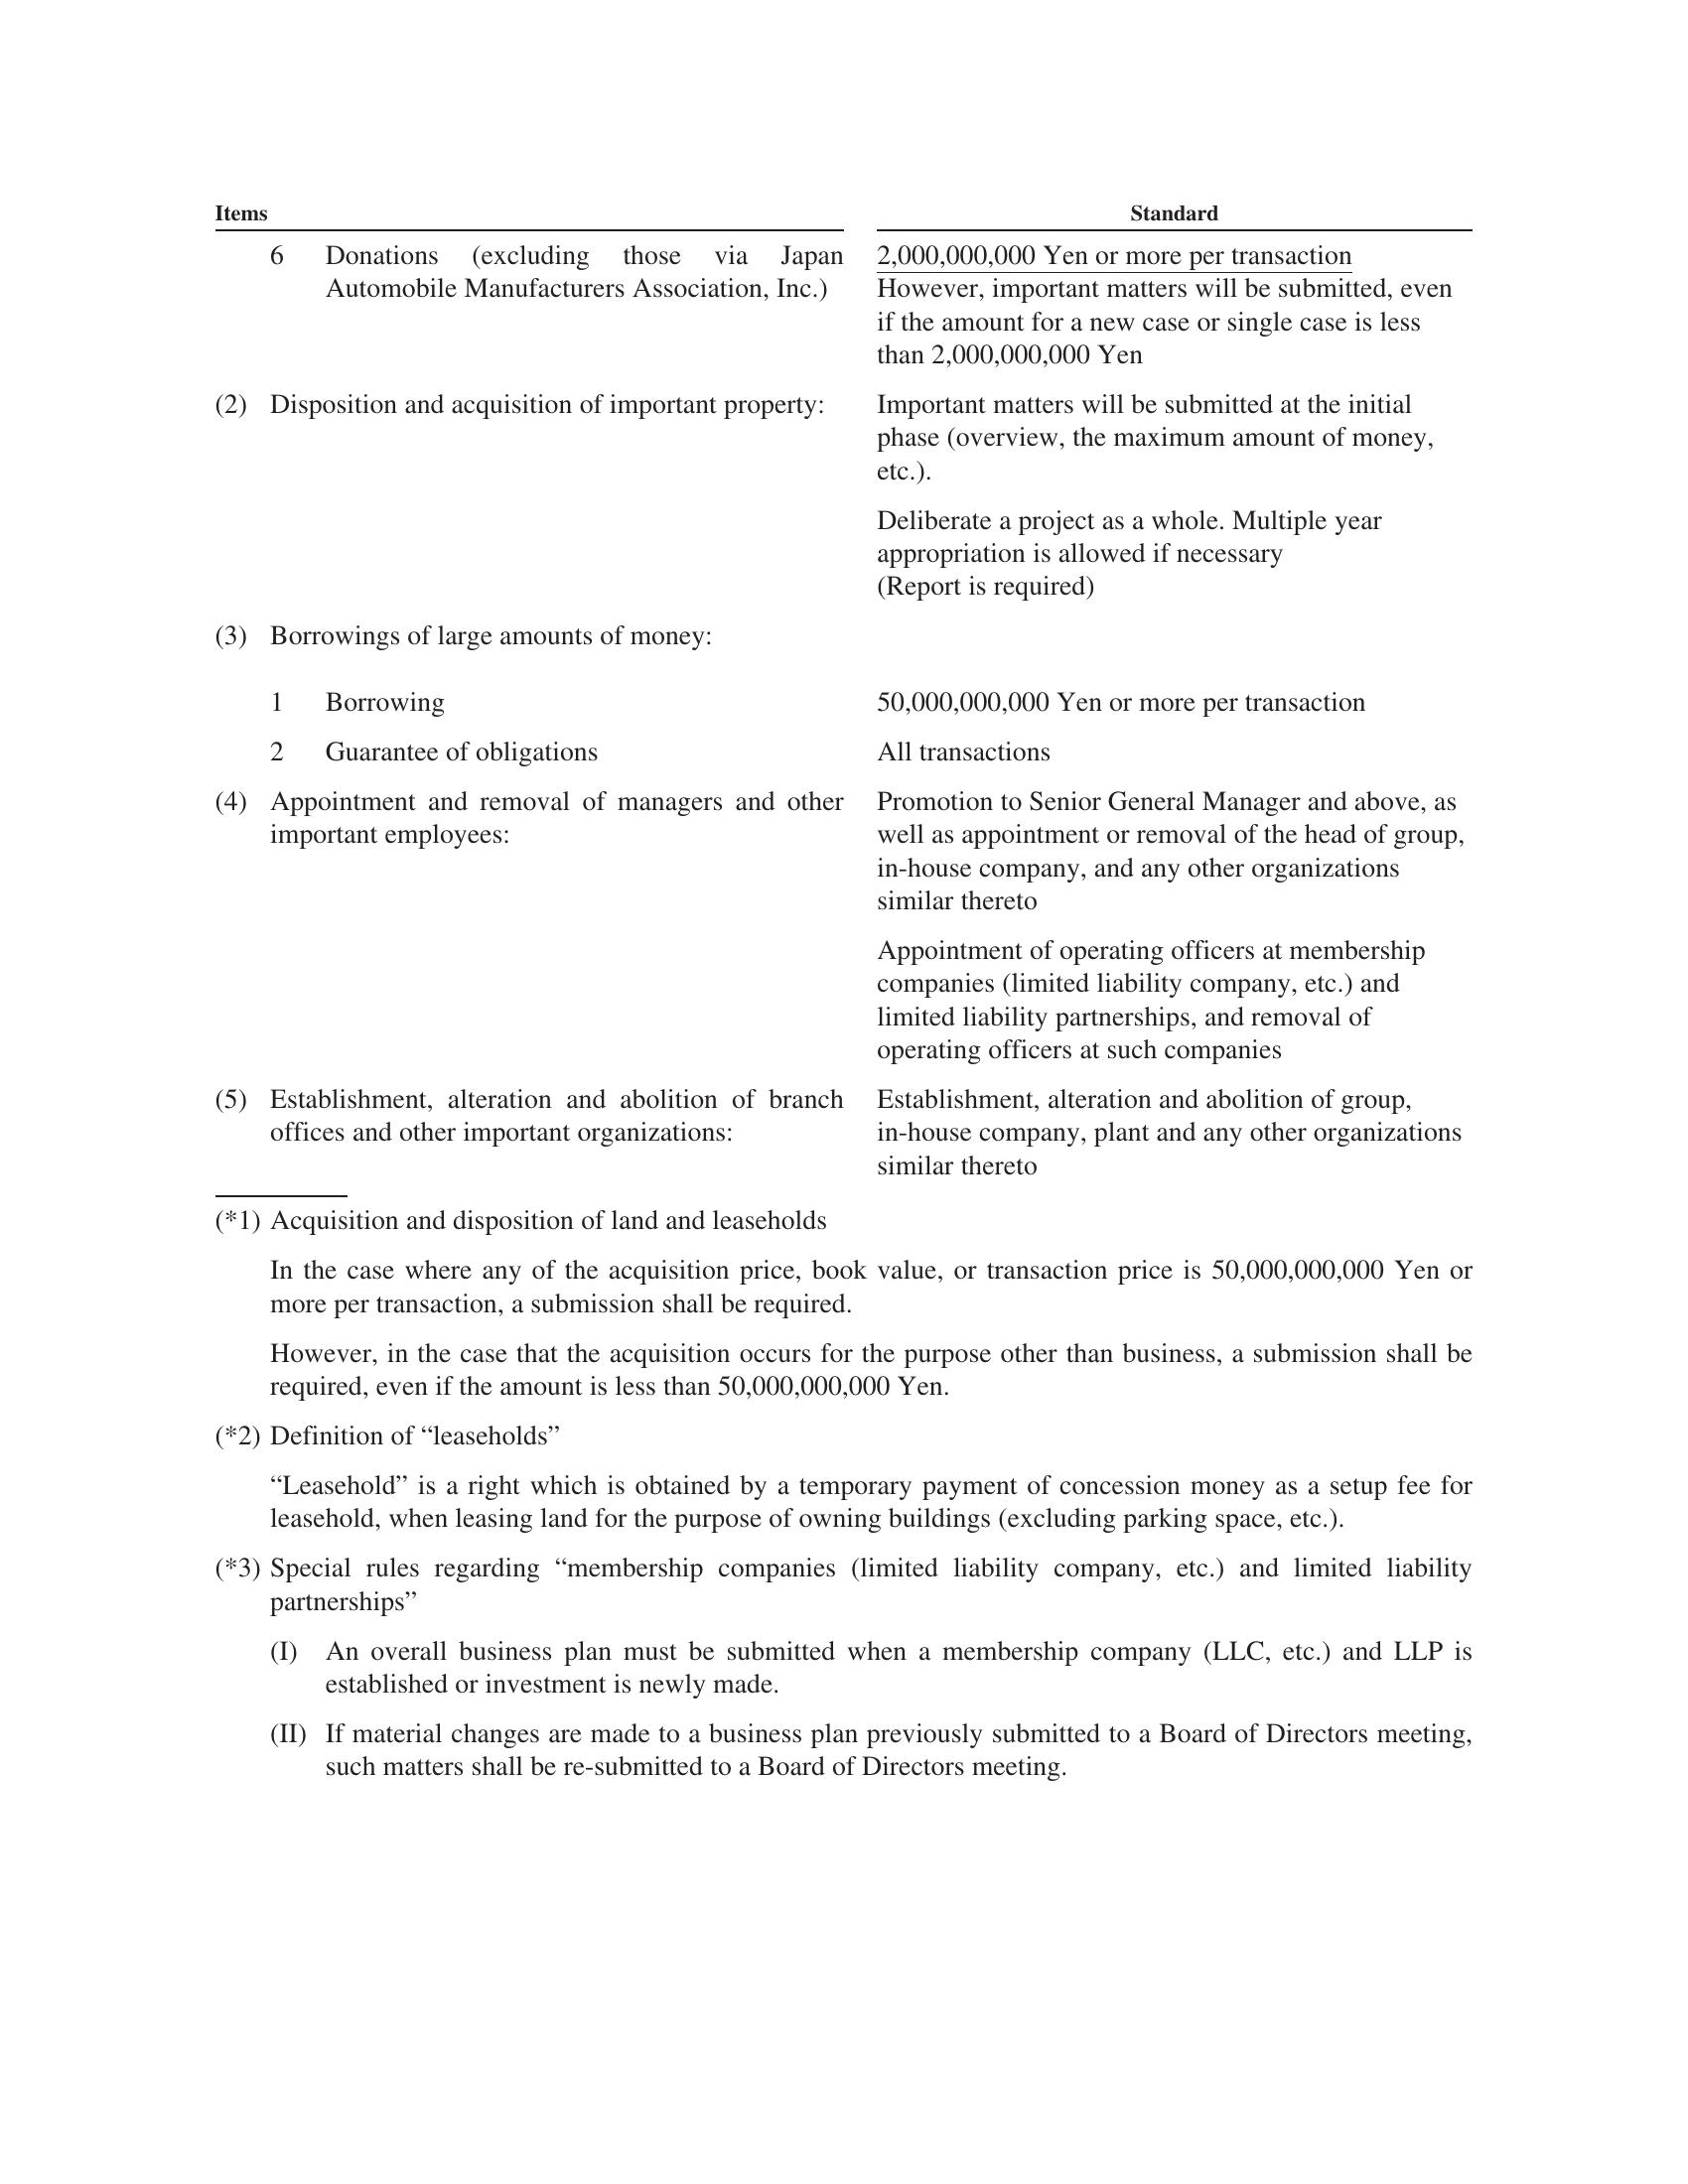Footer: (0, 1966, 1688, 2184)
Header: (0, 0, 1688, 179)
Table: (160, 195, 1509, 1197)
